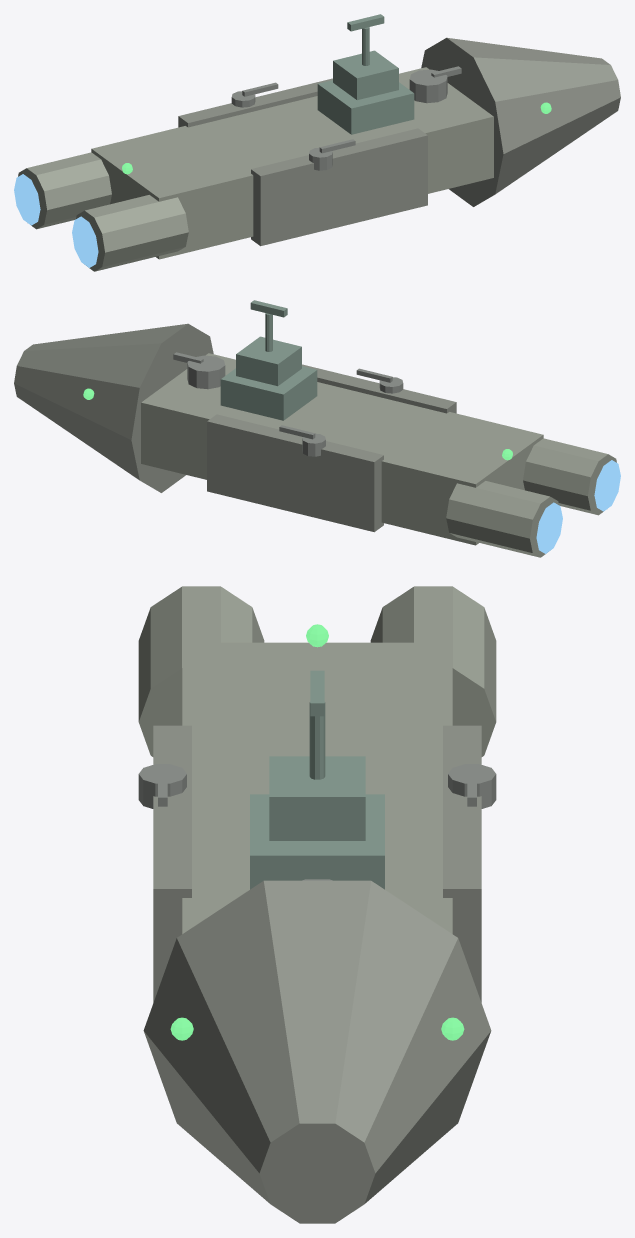
The model's file is military_frigate.glb.
3 renders of one model, top to bottom at view 1: azimuth 30°, elevation 25°; view 2: azimuth 150°, elevation 25°; view 3: azimuth 270°, elevation 25°, orthographic. The views are drawn at different scales.
Visible parts, largest first — view 1: Hull, Prow, ArmorPlate-1, Eng-1, Eng1, Bridge1, Bridge2, ArmorPlate1, MainTur, Glow-1, Glow1, SecTur-1 (+1 smaller); view 2: Hull, Prow, ArmorPlate1, Eng1, Eng-1, Bridge1, Bridge2, ArmorPlate-1, MainTur, Glow1, Glow-1, SecTur1 (+1 smaller); view 3: Prow, Hull, Eng-1, Eng1, Bridge2, ArmorPlate-1, ArmorPlate1, Bridge1, SecTur-1, SecTur1, Mast.
Boxes of the visible parts, x1=… form: Hull: x1=91, y1=67, x2=493, y2=259; Prow: x1=421, y1=37, x2=620, y2=206; ArmorPlate-1: x1=251, y1=128, x2=427, y2=246; Eng-1: x1=76, y1=195, x2=188, y2=271; Eng1: x1=18, y1=152, x2=111, y2=229; Bridge1: x1=317, y1=80, x2=414, y2=134; Bridge2: x1=333, y1=50, x2=398, y2=100; ArmorPlate1: x1=178, y1=78, x2=332, y2=127; MainTur: x1=409, y1=69, x2=447, y2=103; Glow-1: x1=72, y1=216, x2=98, y2=267; Glow1: x1=14, y1=174, x2=40, y2=225; SecTur-1: x1=309, y1=147, x2=332, y2=170; Hull: x1=141, y1=353, x2=543, y2=545; Prow: x1=14, y1=323, x2=213, y2=492; ArmorPlate1: x1=207, y1=414, x2=383, y2=532; Eng1: x1=446, y1=481, x2=558, y2=557; Eng-1: x1=523, y1=438, x2=616, y2=515; Bridge1: x1=220, y1=366, x2=317, y2=420; Bridge2: x1=236, y1=336, x2=301, y2=386; ArmorPlate-1: x1=302, y1=364, x2=456, y2=413; MainTur: x1=187, y1=355, x2=225, y2=389; Glow1: x1=536, y1=502, x2=562, y2=553; Glow-1: x1=594, y1=460, x2=620, y2=511; SecTur1: x1=302, y1=433, x2=325, y2=456; Prow: x1=143, y1=880, x2=491, y2=1223; Hull: x1=182, y1=642, x2=452, y2=933; Eng-1: x1=138, y1=586, x2=264, y2=756; Eng1: x1=370, y1=586, x2=496, y2=756; Bridge2: x1=269, y1=756, x2=365, y2=840; ArmorPlate-1: x1=153, y1=725, x2=191, y2=1002; ArmorPlate1: x1=443, y1=725, x2=481, y2=1002; Bridge1: x1=250, y1=794, x2=384, y2=889; SecTur-1: x1=138, y1=764, x2=186, y2=808; SecTur1: x1=448, y1=764, x2=496, y2=808; Mast: x1=309, y1=702, x2=325, y2=779.
Size of the model in its own units: 1.31 by 0.4587 by 0.37.
